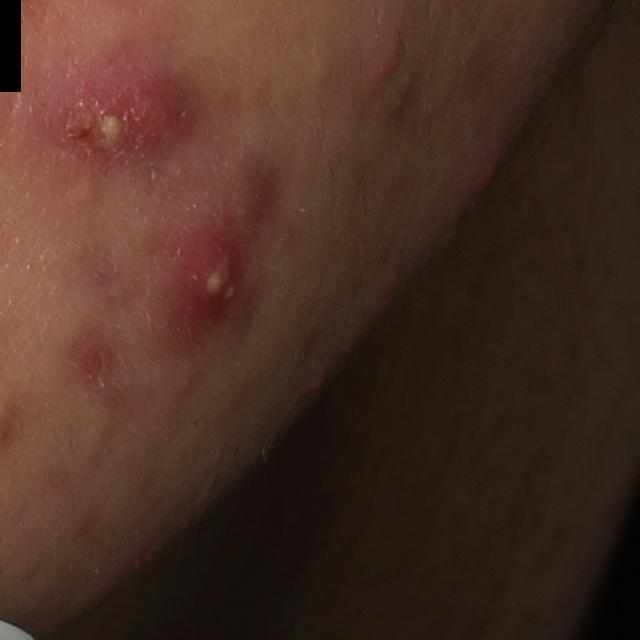comedo: (308, 52, 335, 83)
nodule: (28, 57, 207, 166), (158, 208, 259, 356)
papule: (360, 31, 411, 98), (462, 148, 502, 211)
